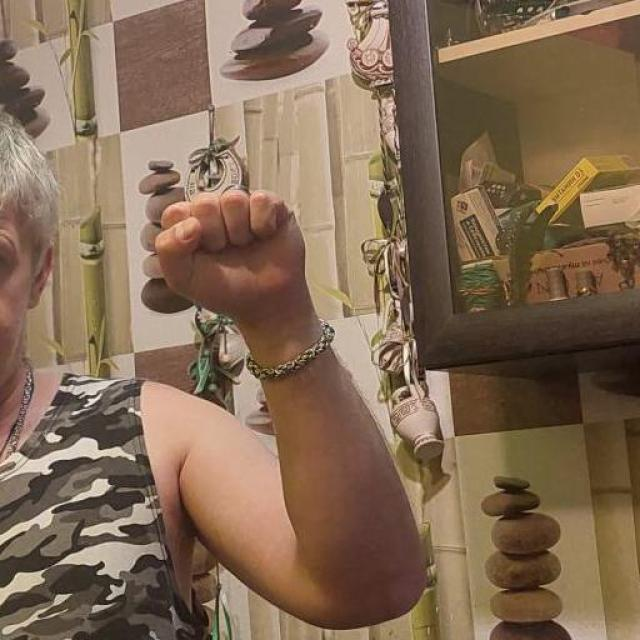hand: (152, 185, 316, 353), (0, 38, 50, 138)
